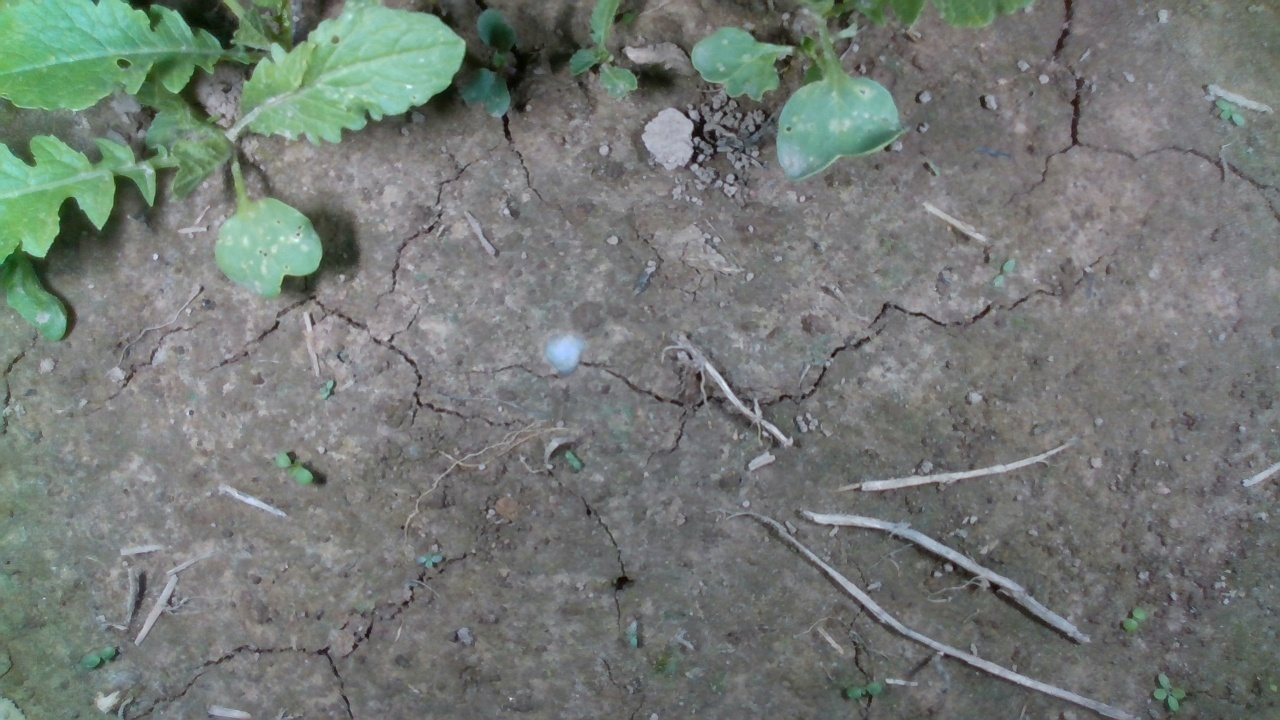weed: (271, 450, 316, 488), (1149, 671, 1187, 713), (843, 679, 881, 701), (1121, 603, 1147, 632)
